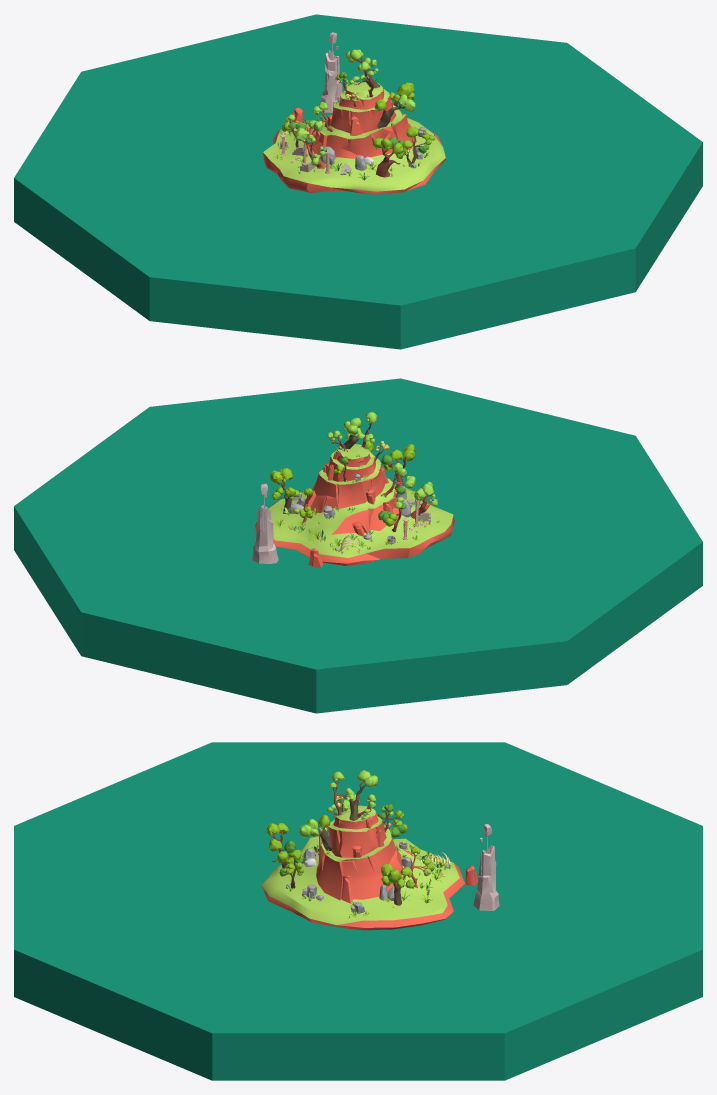
Rendered from Sketchfab_2021_02_01_09_54_40.fbx.
3 renders of one model, top to bottom at view 1: azimuth 30°, elevation 25°; view 2: azimuth 150°, elevation 25°; view 3: azimuth 270°, elevation 25°, orthographic. The views are drawn at different scales.
Parts seen in each view (by area): view 1: yet, Plane.014, Cylinder.009; view 2: yet, Plane.014, Cylinder.009; view 3: yet, Plane.014, Cylinder.009.
Part boxes in pixels (x1,y1,x2,y2): yet: (14,14,702,349); Plane.014: (263,81,445,194); Cylinder.009: (321,50,342,112); yet: (14,378,702,713); Plane.014: (255,444,454,565); Cylinder.009: (252,505,278,563); yet: (14,742,702,1080); Plane.014: (261,805,464,930); Cylinder.009: (473,845,499,910).
Size of the model in its own units: 47873 by 12603 by 47873.
